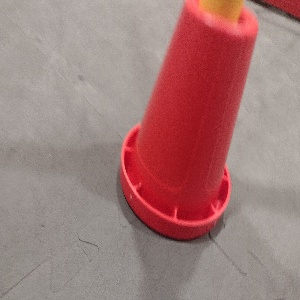Red_1: (117, 0, 259, 245)
